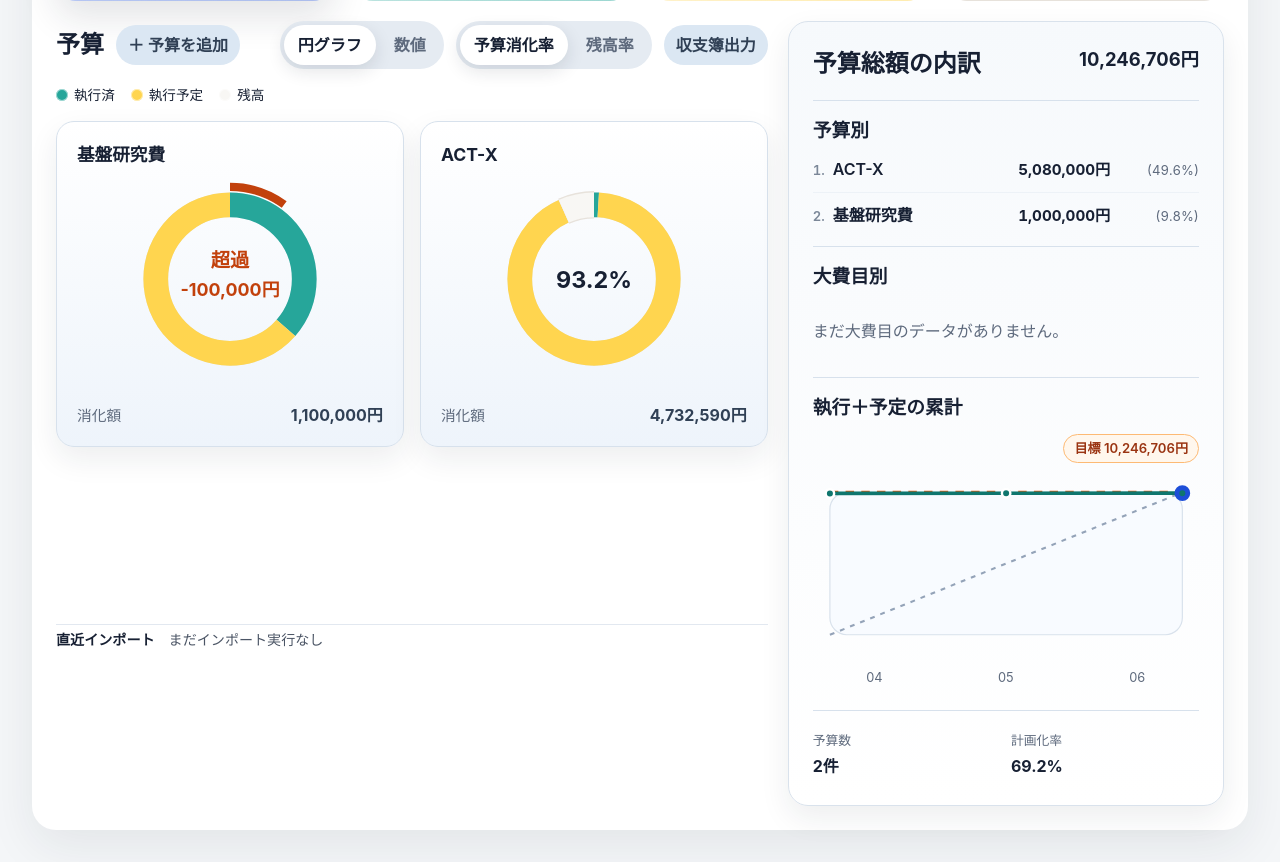
Test: Overview display › opens from a wide data-point target and supports keyboard activation for points and month labels
(page scrolled)
Press Enter
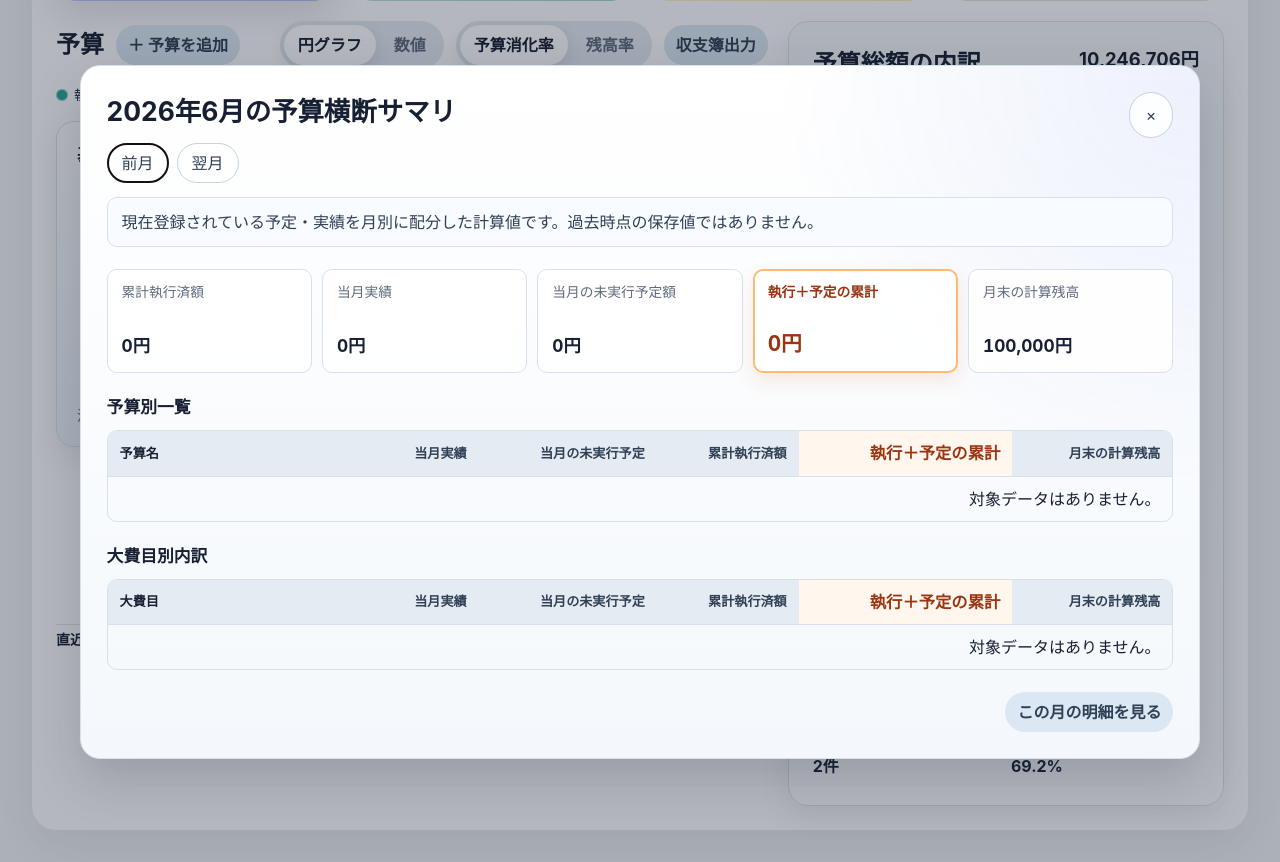
Click the button named "月別サマリを閉じる" at [1151, 114], box [1129,92,1173,138]
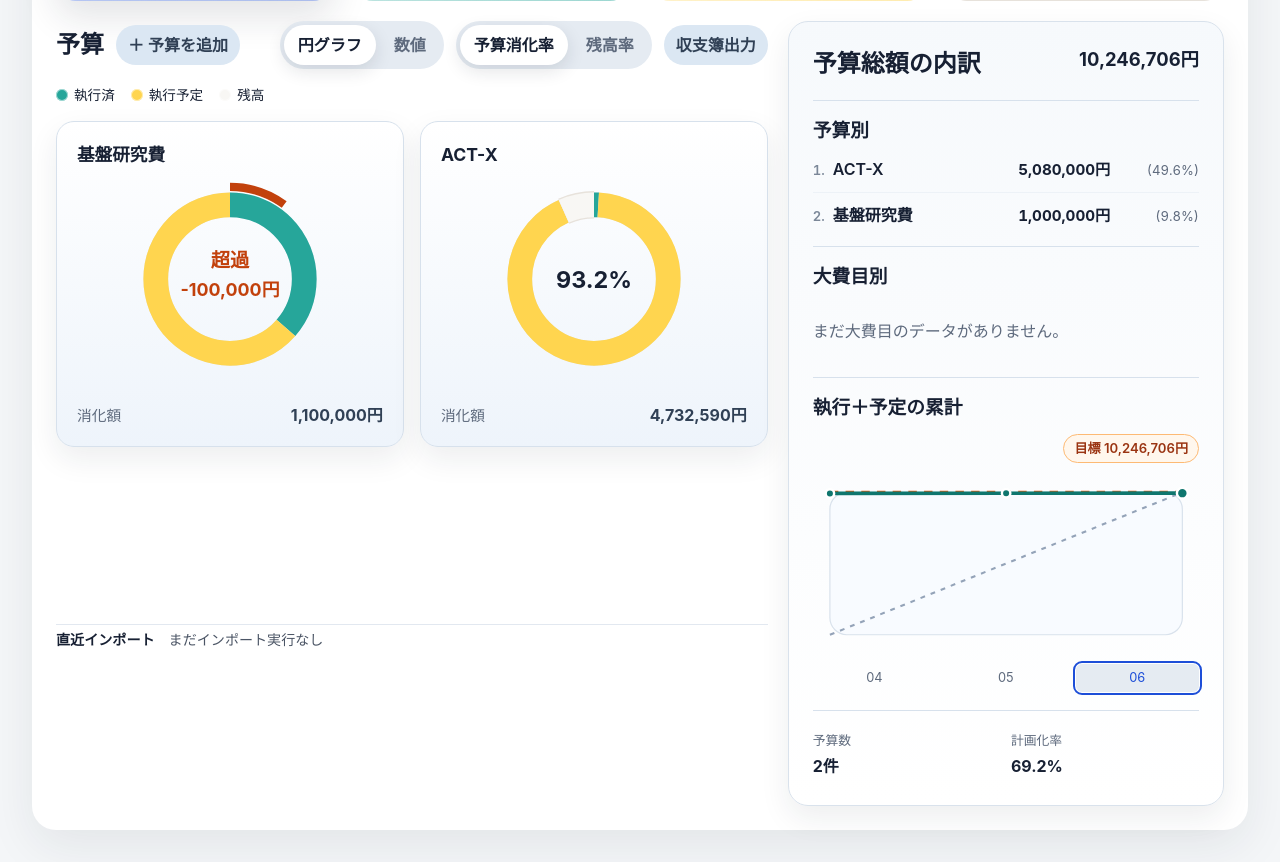
Expected: the dialog is gone
Type keys " "
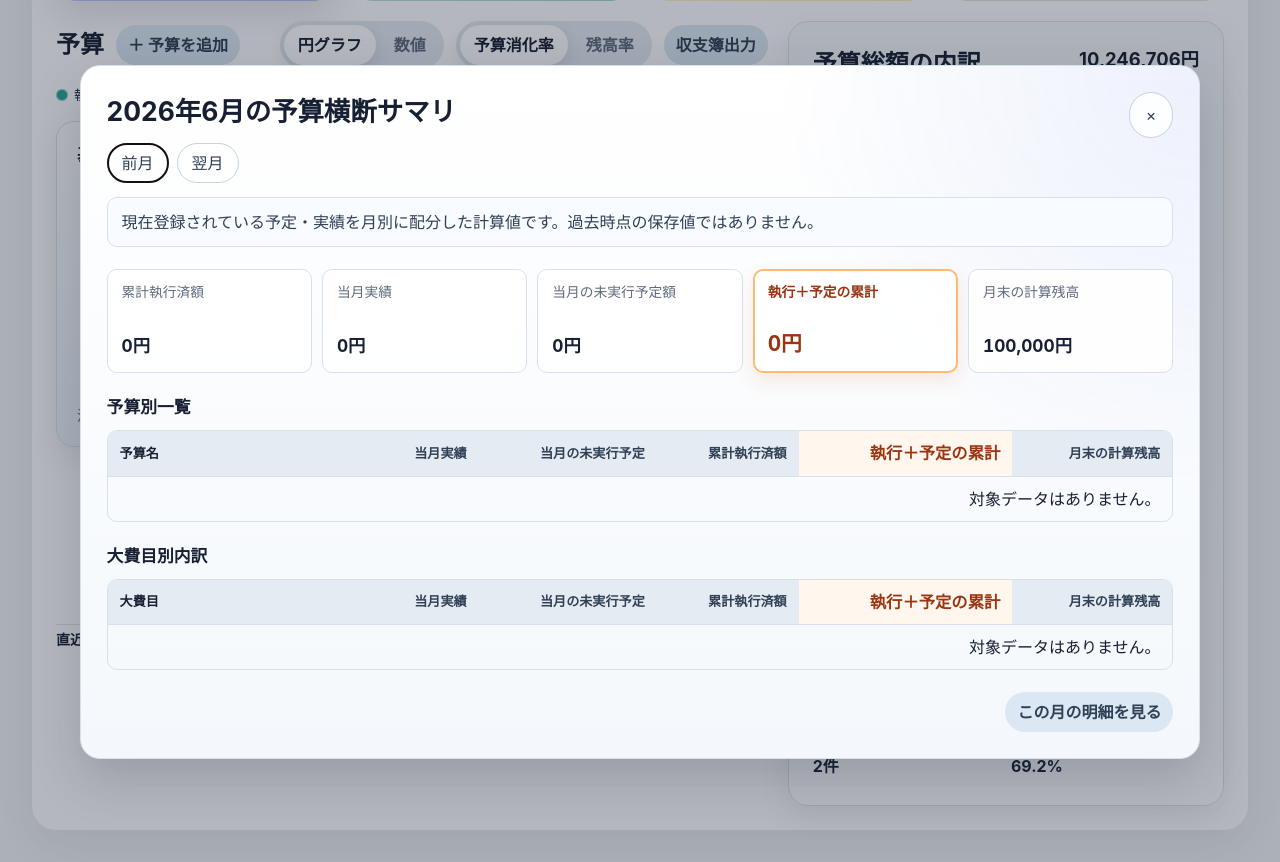
Expected: the dialog "2026年6月の予算横断サマリ" is shown
